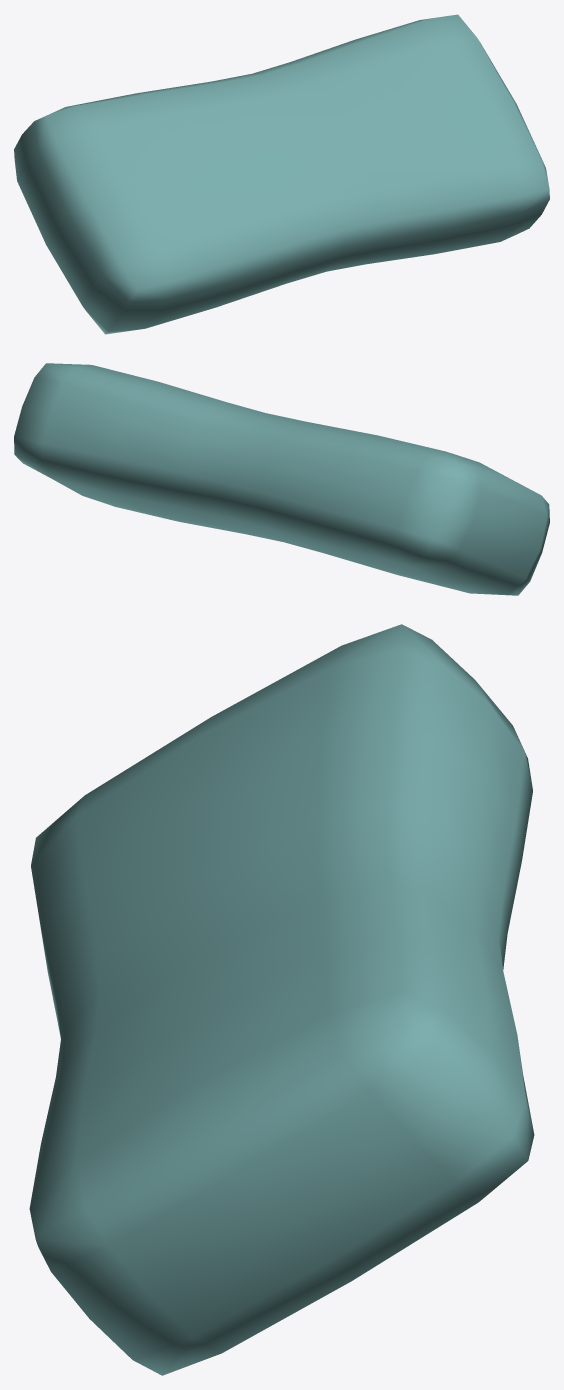
File: pillow.fbx
3 renders of one model, top to bottom at view 1: azimuth 30°, elevation 25°; view 2: azimuth 150°, elevation 25°; view 3: azimuth 270°, elevation 25°, orthographic. The views are drawn at different scales.
Parts seen in each view (by area): view 1: polySurface1; view 2: polySurface1; view 3: polySurface1.
Part boxes in pixels (<box>): polySurface1: <box>14,14,549,334</box>; polySurface1: <box>14,363,549,595</box>; polySurface1: <box>29,624,534,1375</box>.
Size of the model in its own units: 44.81 by 16.87 by 21.39.
